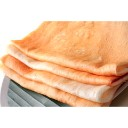dosa: (2, 18, 128, 108)
